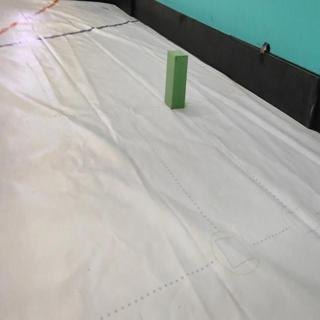greenbox: (165, 48, 189, 109)
